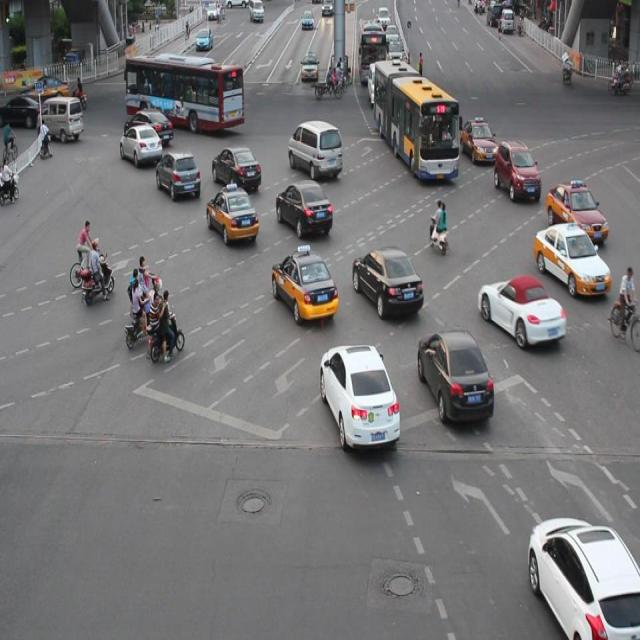car: (526, 514, 640, 640), (319, 341, 398, 447), (417, 326, 493, 422), (478, 273, 564, 346), (533, 221, 610, 297), (351, 244, 422, 317), (271, 248, 338, 321), (544, 179, 607, 244), (275, 179, 332, 238), (206, 182, 258, 243), (493, 139, 540, 201), (212, 143, 262, 191), (156, 149, 200, 198), (125, 106, 173, 144), (120, 124, 163, 165), (460, 118, 497, 162)
truck: (288, 120, 342, 178)
van: (373, 61, 458, 178), (125, 57, 243, 128)
